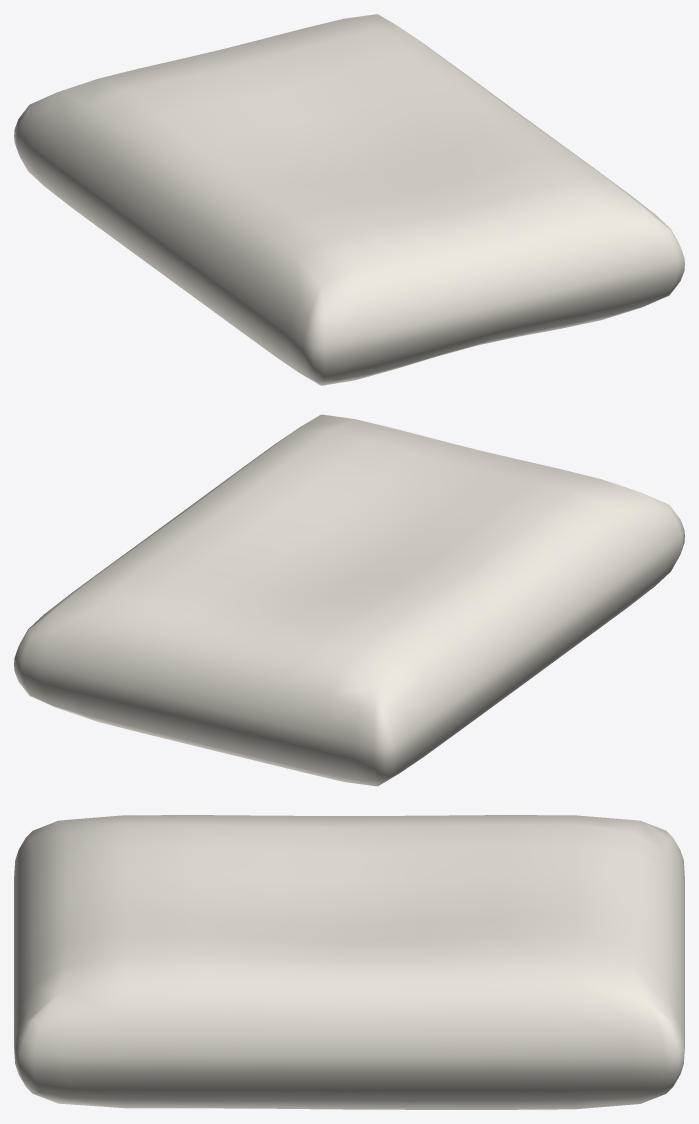
Rendered from Pillow.fbx.
3 renders of one model, top to bottom at view 1: azimuth 30°, elevation 25°; view 2: azimuth 150°, elevation 25°; view 3: azimuth 270°, elevation 25°, orthographic. The views are drawn at different scales.
Parts seen in each view (by area): view 1: Pillow; view 2: Pillow; view 3: Pillow.
Boxes of the visible parts, x1,y1,x2,y2 form: Pillow: (14, 14, 684, 385); Pillow: (14, 414, 684, 786); Pillow: (14, 815, 684, 1109).
Bounding box in the file's own units: 35.13 × 11.59 × 48.76.
